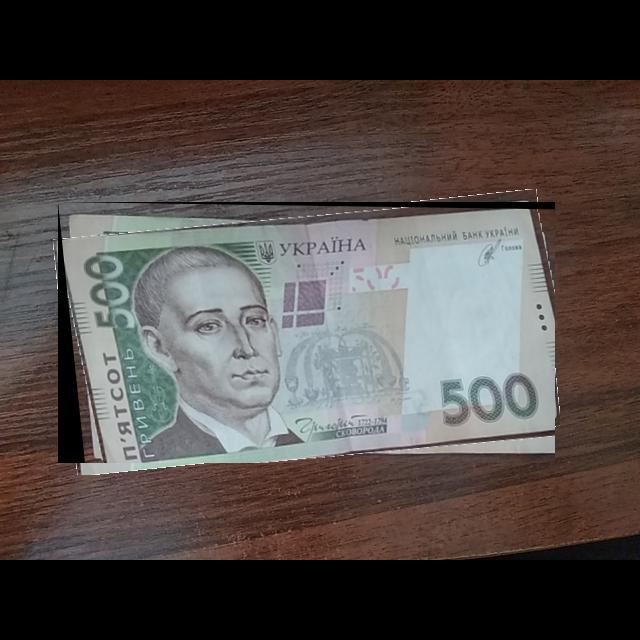500uah: (58, 202, 556, 464)
